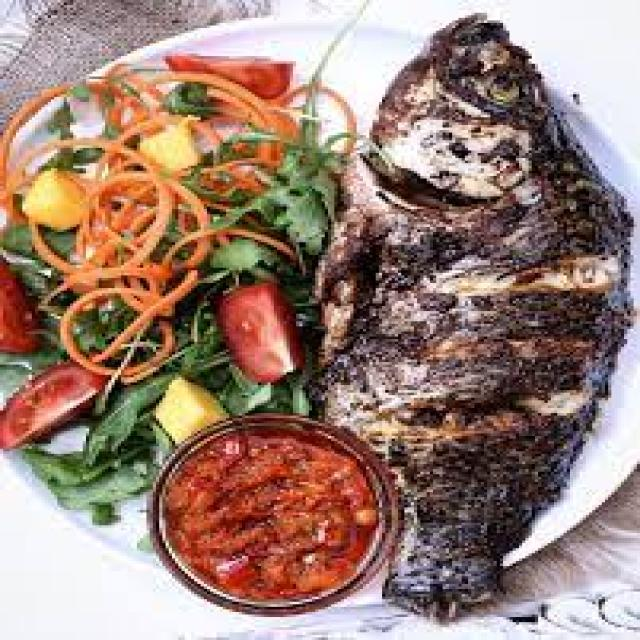Peixe: (306, 10, 636, 622)
